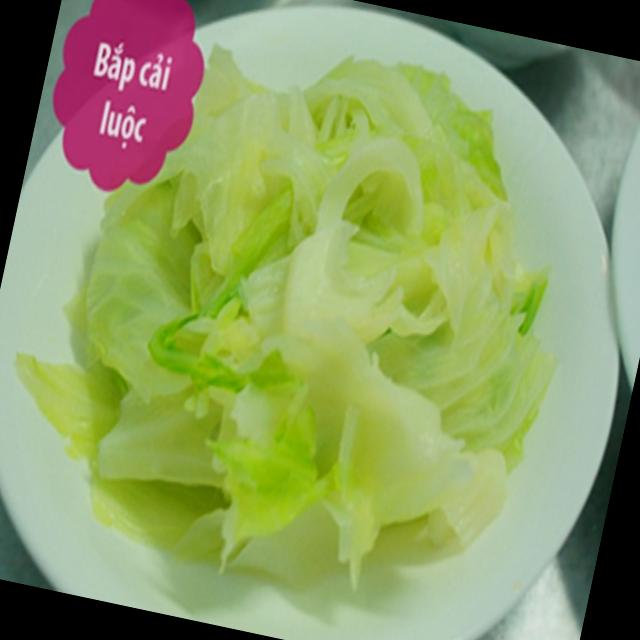bap cai luoc: (17, 49, 554, 588)
